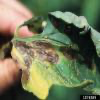Tomato Early blight leaf: (12, 11, 99, 94)
